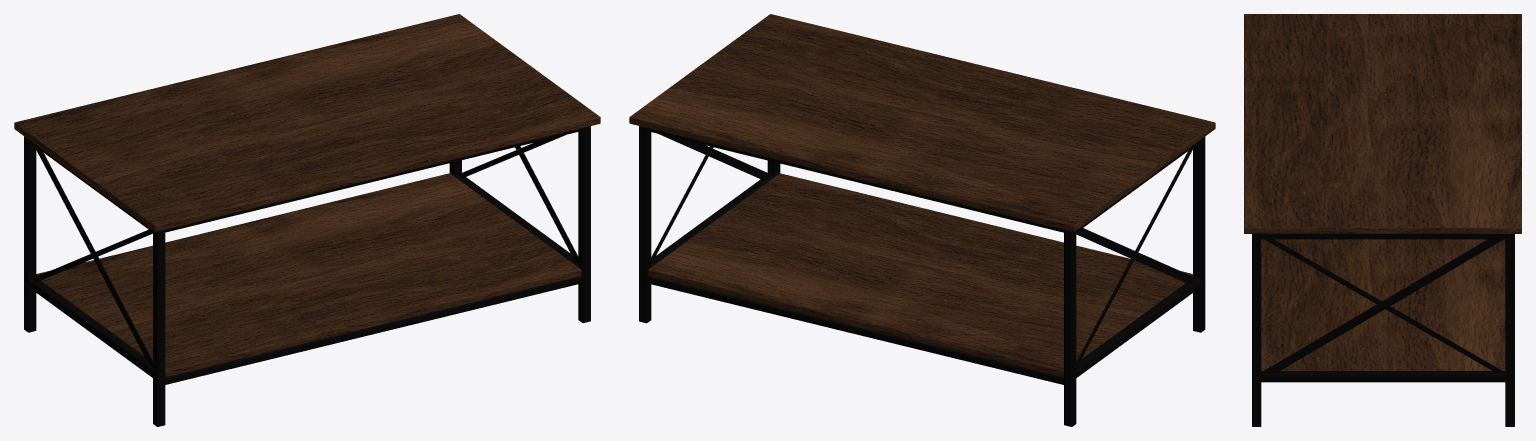
File: Metal_Table.fbx
3 renders of one model, left to right at view 1: azimuth 30°, elevation 25°; view 2: azimuth 150°, elevation 25°; view 3: azimuth 270°, elevation 25°, orthographic.
Parts seen in each view (by area): view 1: Metal_Table; view 2: Metal_Table; view 3: Metal_Table.
Part boxes in pixels (box(x1,y1,x2,y2)): Metal_Table: box(14, 14, 600, 426); Metal_Table: box(629, 14, 1215, 426); Metal_Table: box(1244, 14, 1521, 426).
Bounding box in the file's own units: 148 × 65.47 × 81.54.
Materials: 2 (1 with a texture image).
